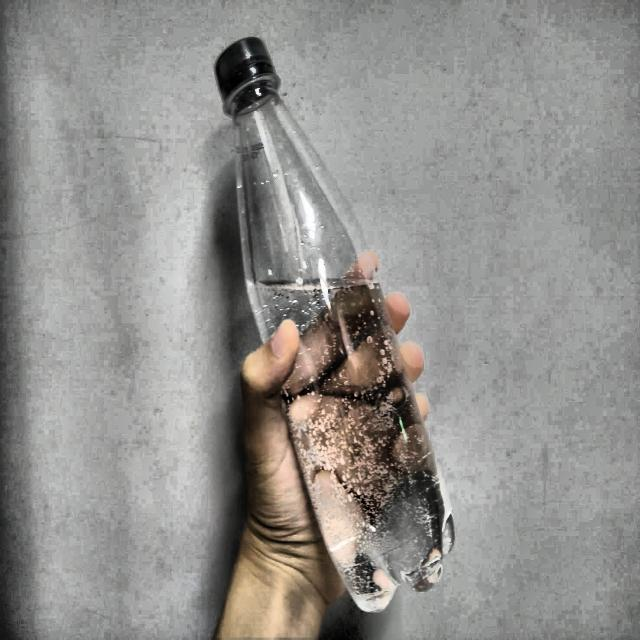Bottles: (203, 20, 478, 621)
